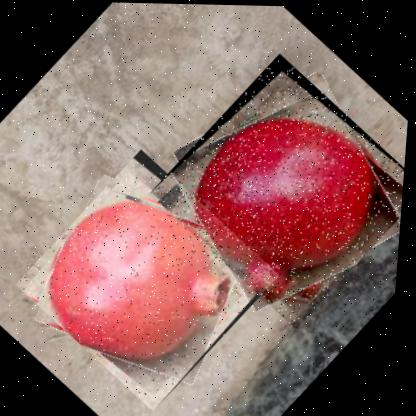pomegranate: (142, 48, 412, 329), (11, 144, 291, 412)
